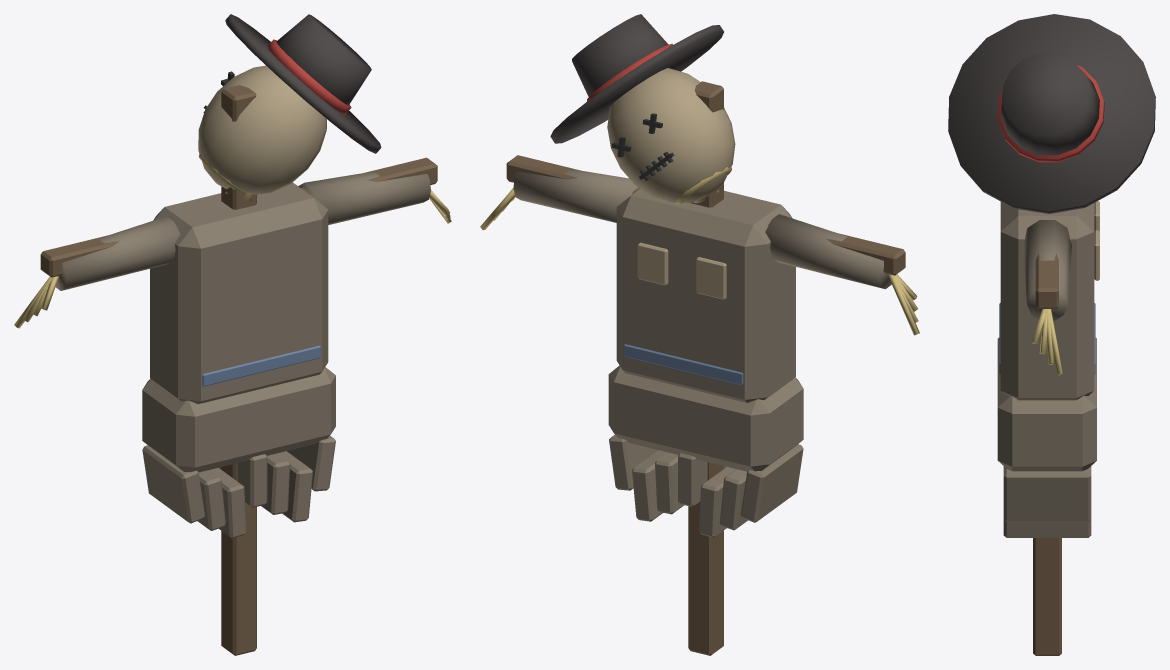
Rendered from v_scarecrow.glb.
3 views of the same model, side by side, from view 1: azimuth 30°, elevation 25°; view 2: azimuth 150°, elevation 25°; view 3: azimuth 270°, elevation 25° (orthographic). The views are drawn at different scales.
Parts seen in each view (by area): view 1: Scarecrow; view 2: Scarecrow; view 3: Scarecrow.
Boxes of the visible parts, <box> form: Scarecrow: <box>14,14,451,655</box>; Scarecrow: <box>480,14,919,655</box>; Scarecrow: <box>948,14,1155,655</box>.
Size of what is drawn, in the model's own units: 1.8 by 2.42 by 0.7112.
